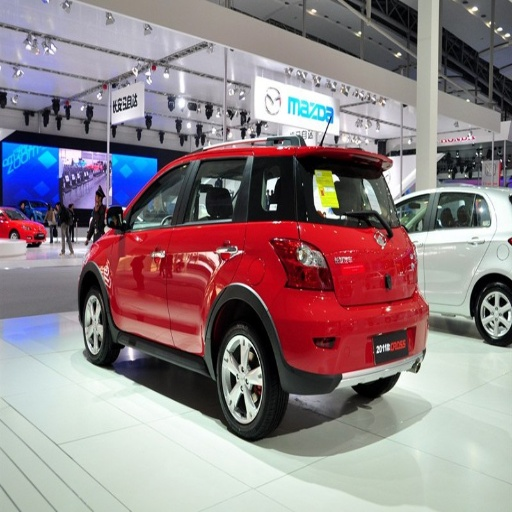back_bumper: (278, 291, 429, 393)
back_glass: (330, 164, 382, 223)
back_left_door: (167, 153, 249, 343)
trunk: (299, 225, 409, 333)
